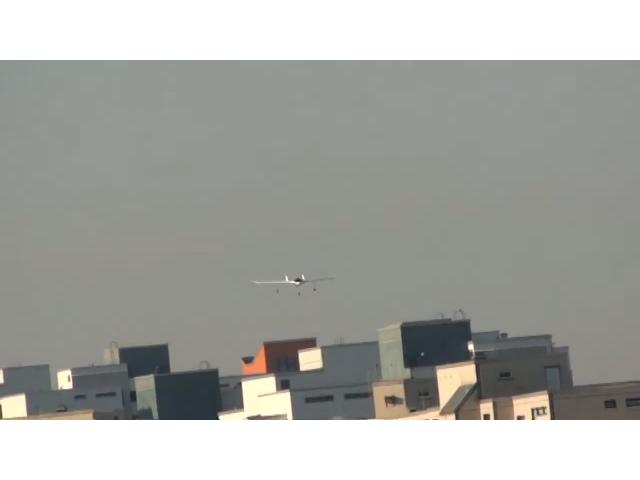Anti-Drone: (252, 274, 336, 286)
